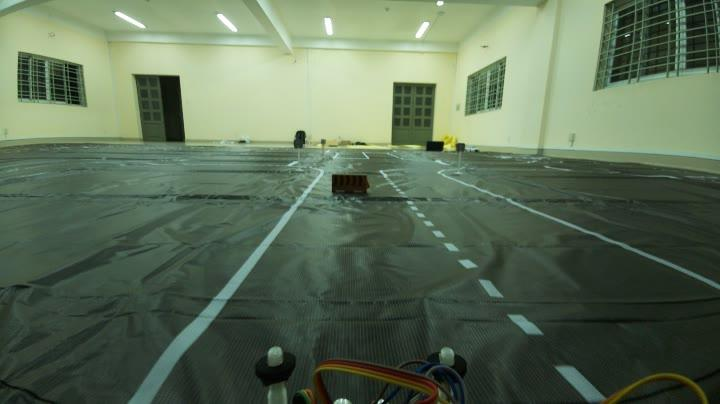roadblock: (327, 170, 376, 204)
